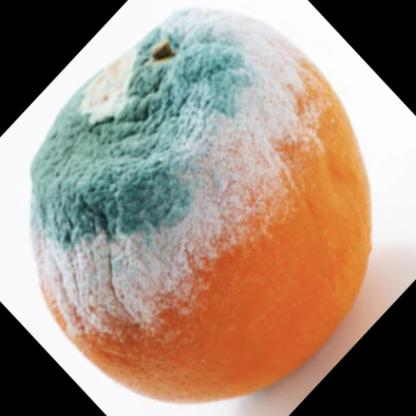rotten: (34, 8, 371, 405)
